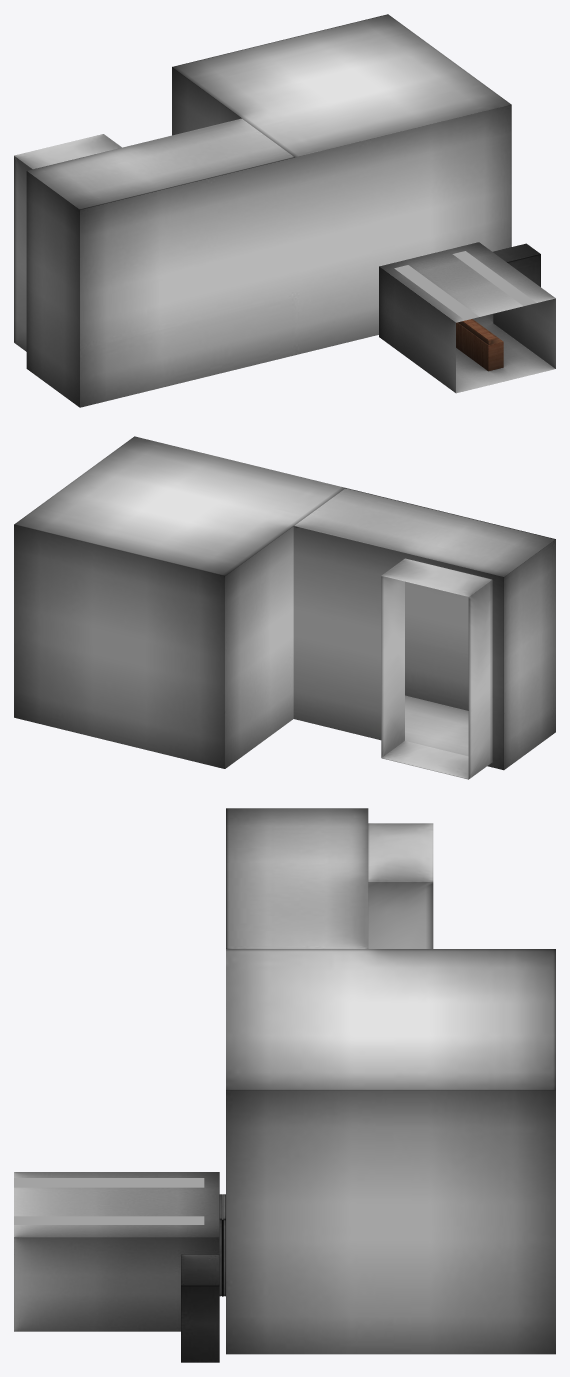
File: scenery_g_05.dae
3 views of the same model, one above another, from view 1: azimuth 30°, elevation 25°; view 2: azimuth 150°, elevation 25°; view 3: azimuth 270°, elevation 25° (orthographic). The views are drawn at different scales.
Visible parts, largest first — view 1: Walls, pCube4; view 2: Walls; view 3: Walls.
Boxes of the visible parts, <box> form: Walls: <box>14,14,555,407</box>; pCube4: <box>456,319,503,371</box>; Walls: <box>14,436,555,779</box>; Walls: <box>14,808,555,1362</box>.
Size of the model in its own units: 16.46 by 7.01 by 13.02.
Materials: 6 (3 with a texture image).
